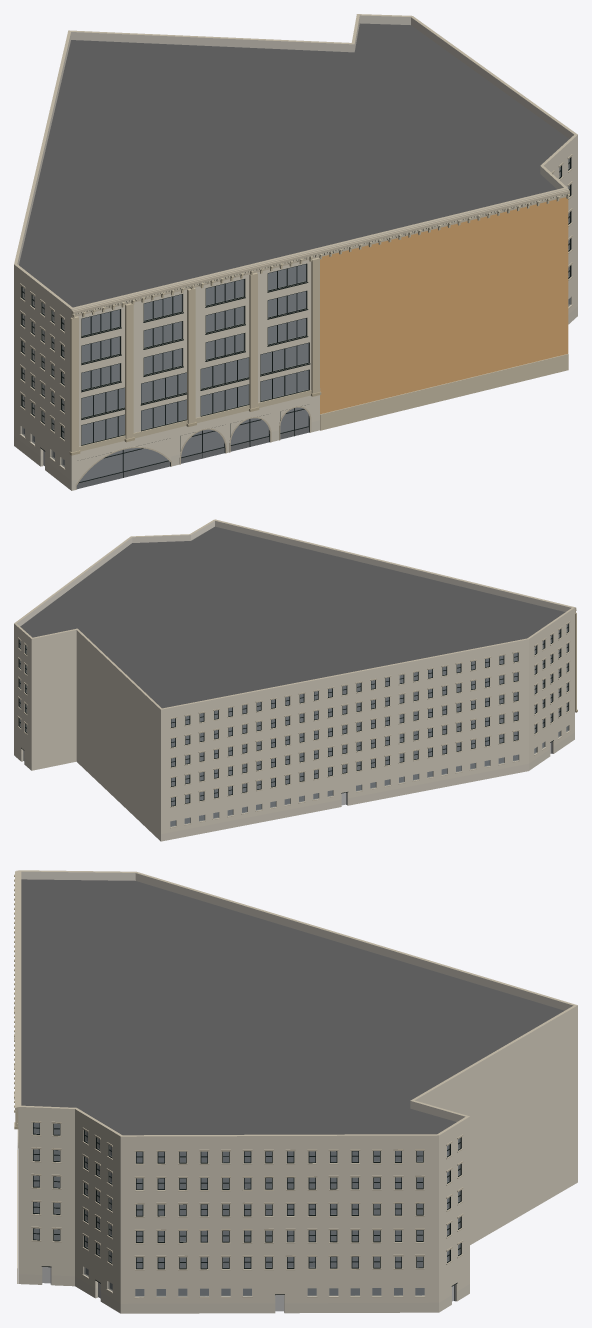
File: exterior.glb
3 renders of one model, top to bottom at view 1: azimuth 30°, elevation 25°; view 2: azimuth 150°, elevation 25°; view 3: azimuth 270°, elevation 25°, orthographic. The views are drawn at different scales.
Visible parts, largest first — view 1: roof, mural, shell, glazing, shadow-proxy, front-dressing, hand-ornament, trim, frames, storefront, hyC-arches-0, front-dressing-r4; view 2: shell, roof, glazing, trim, frames, shadow-proxy; view 3: shell, roof, glazing, shadow-proxy, trim, frames.
Boxes of the visible parts, bbox=[...] form: roof: bbox=[19, 23, 568, 307]; mural: bbox=[320, 197, 568, 414]; shell: bbox=[14, 14, 577, 490]; glazing: bbox=[21, 158, 570, 482]; shadow-proxy: bbox=[24, 264, 568, 481]; front-dressing: bbox=[73, 193, 569, 451]; hand-ornament: bbox=[69, 257, 321, 455]; trim: bbox=[19, 154, 572, 469]; frames: bbox=[21, 157, 571, 445]; storefront: bbox=[40, 405, 309, 489]; hyC-arches-0: bbox=[75, 404, 311, 489]; front-dressing-r4: bbox=[72, 194, 569, 319]; shell: bbox=[14, 519, 574, 841]; roof: bbox=[20, 526, 565, 708]; glazing: bbox=[19, 624, 568, 826]; trim: bbox=[17, 519, 576, 828]; frames: bbox=[18, 623, 568, 806]; shadow-proxy: bbox=[23, 647, 567, 825]; shell: bbox=[18, 870, 577, 1313]; roof: bbox=[21, 879, 564, 1135]; glazing: bbox=[33, 1123, 460, 1296]; shadow-proxy: bbox=[34, 1123, 458, 1311]; trim: bbox=[15, 870, 463, 1298]; frames: bbox=[33, 1122, 461, 1269].
Size of the model in its own units: 69.51 by 21.47 by 61.93.
